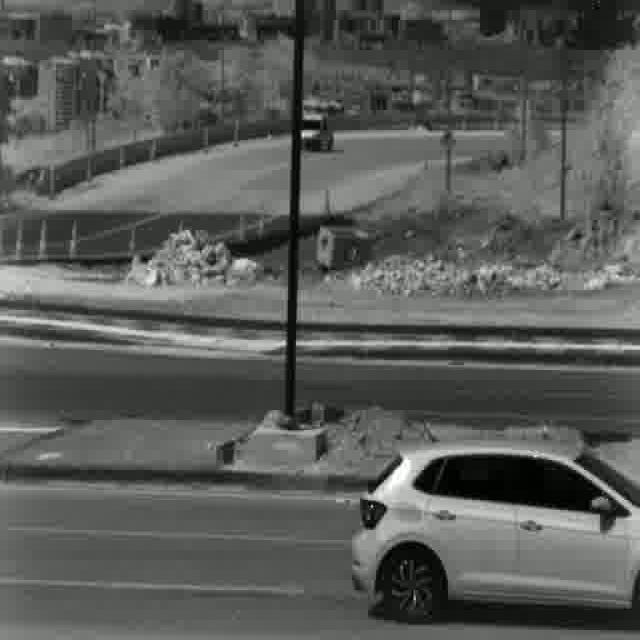Car: (347, 444, 640, 615), (300, 112, 334, 150)
